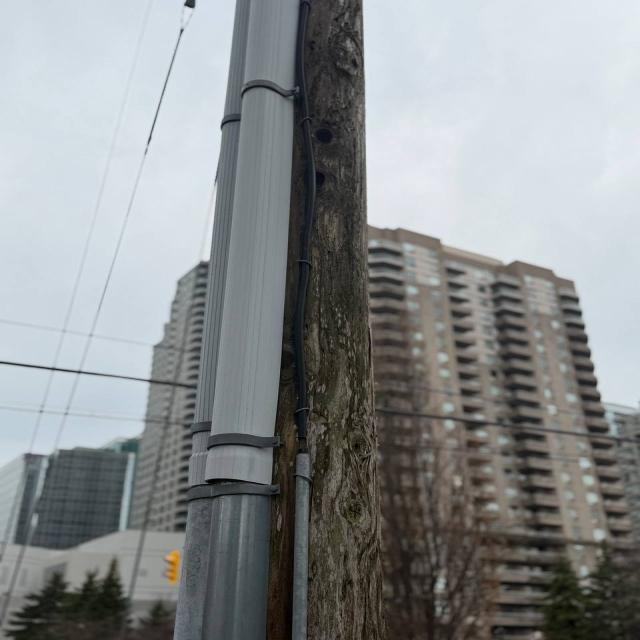Electrical Pole: (165, 0, 376, 637)
